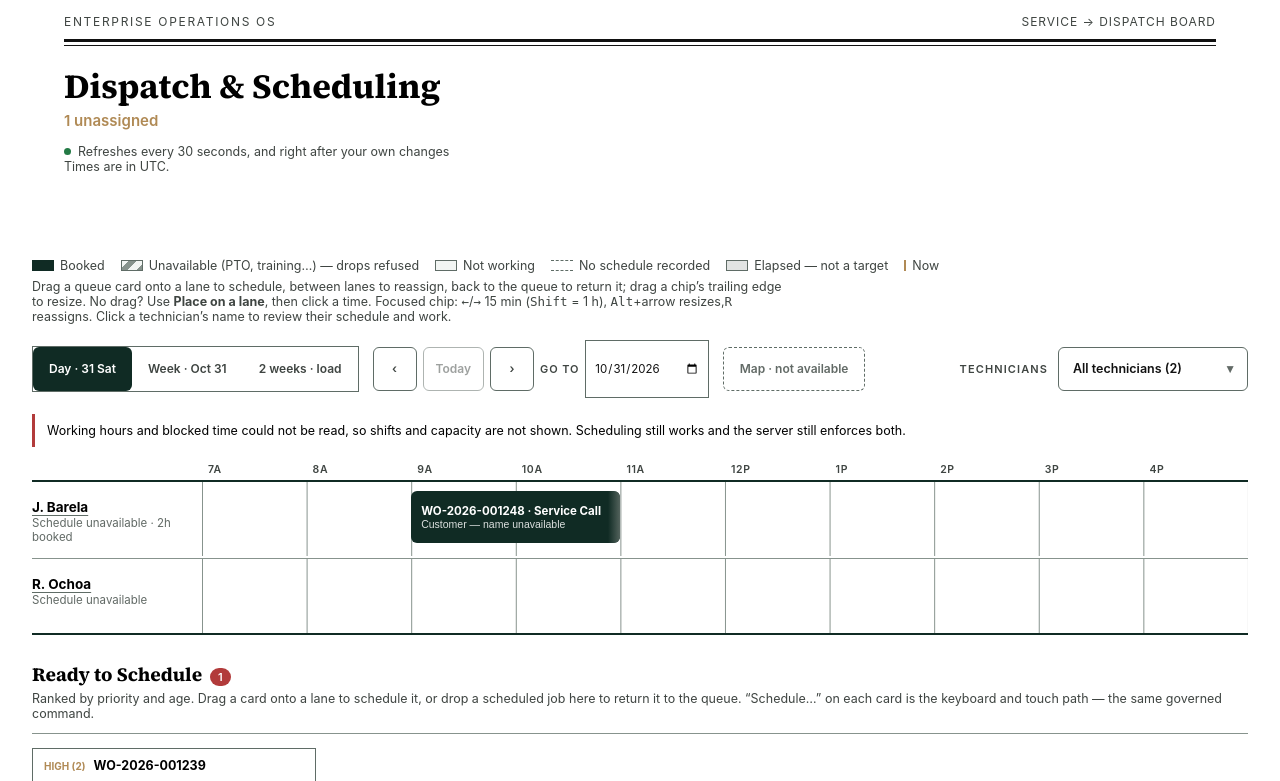
honest states › a FAILED availability read is 'Schedule unavailable', never a claim that no schedule exists (S-1)
Check: the text "Working hours and blocked time could not be read" is shown, box left=47, top=423, right=906, bottom=438
Check: the text "Schedule unavailable · 2h booked" is shown 2 times, box left=32, top=516, right=171, bottom=544; left=32, top=593, right=147, bottom=607
# Week cells say the same neutral thing.
Click the tab "Week · Oct 31".
click(187, 369)  # box left=132, top=347, right=243, bottom=391
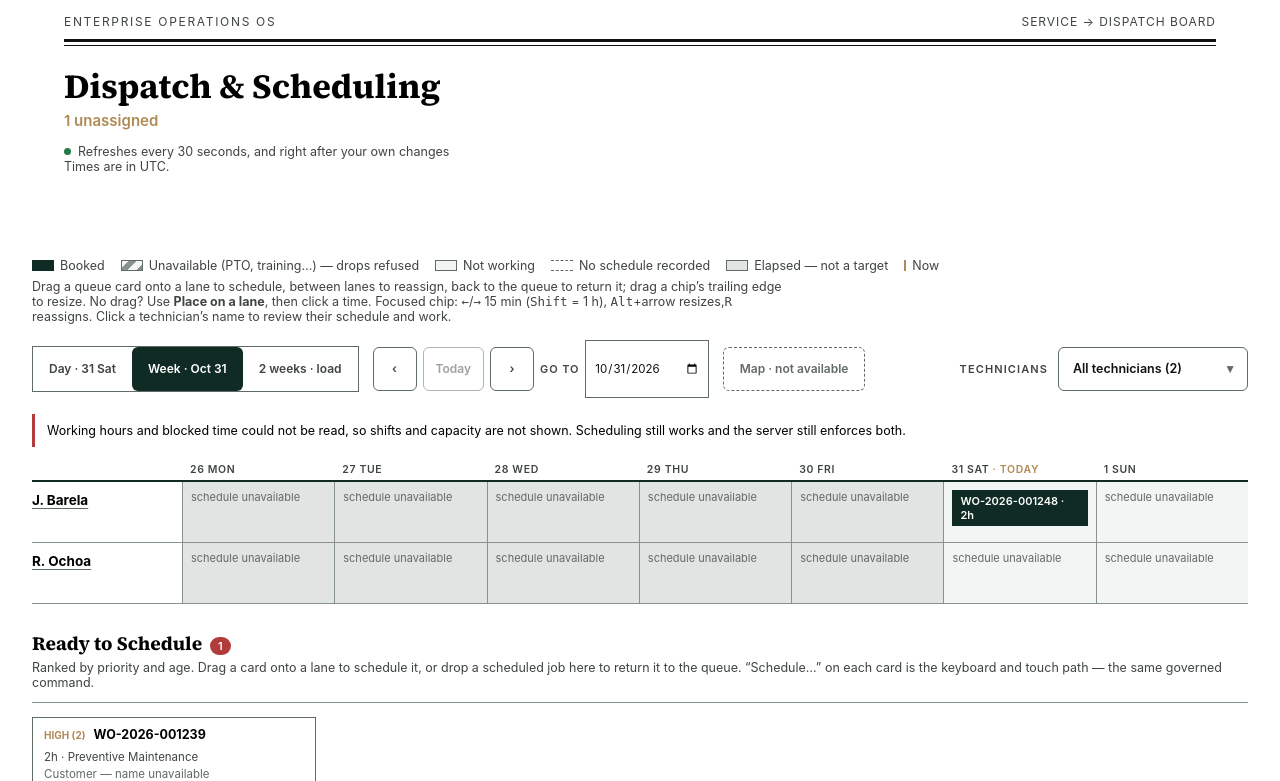
Check: the 1st text "schedule unavailable" is shown, box left=191, top=490, right=300, bottom=504
